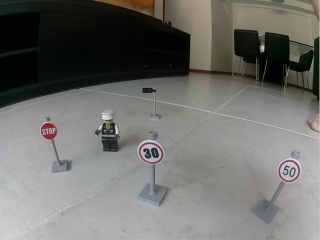Green Traffic Light: (140, 86, 163, 121)
Person: (94, 109, 121, 153)
Speed Limit 30: (138, 140, 165, 164)
Speed Limit 50: (278, 158, 301, 183)
Stop Sign: (40, 122, 58, 141)
